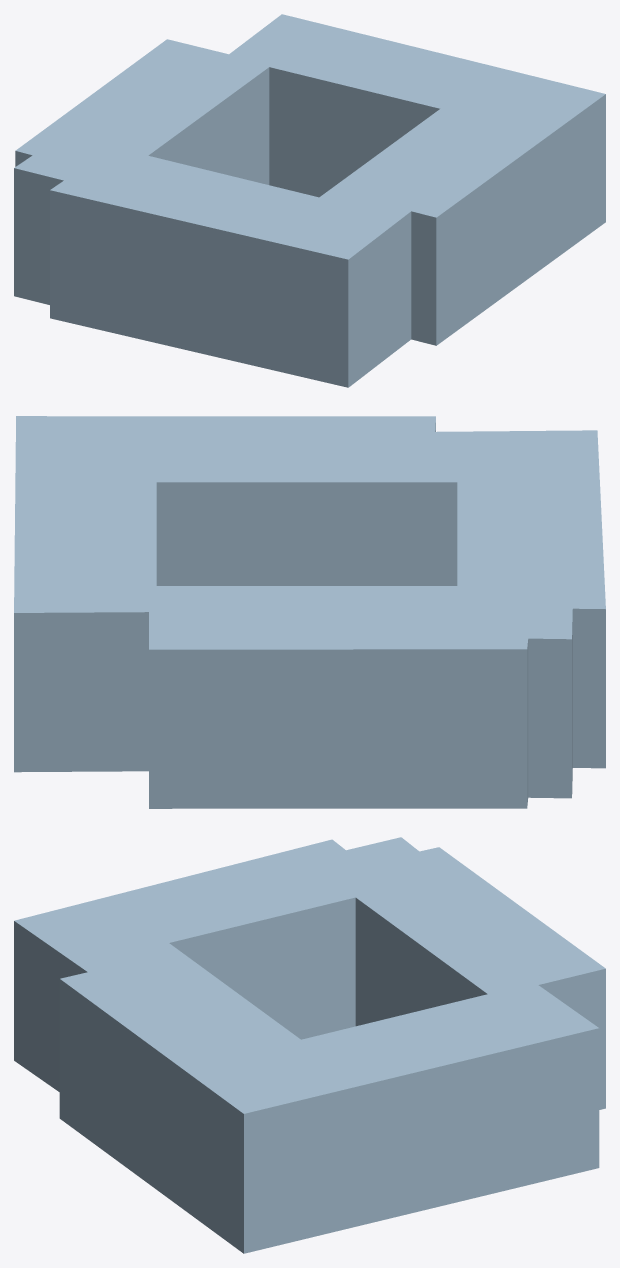
File: osm_way_1173059720.glb
The picture shows the model from 3 angles, top to bottom: view 1: azimuth 30°, elevation 25°; view 2: azimuth 150°, elevation 25°; view 3: azimuth 270°, elevation 25°; orthographic projection. The views are drawn at different scales.
Parts seen in each view (by area): view 1: osm_way_1173059720; view 2: osm_way_1173059720; view 3: osm_way_1173059720.
Part boxes in pixels (left/top/right/bottom): osm_way_1173059720: left=14, top=14, right=605, bottom=387; osm_way_1173059720: left=14, top=416, right=605, bottom=808; osm_way_1173059720: left=14, top=837, right=605, bottom=1253.
Bounding box in the file's own units: 94.22 × 22.2 × 85.15.
